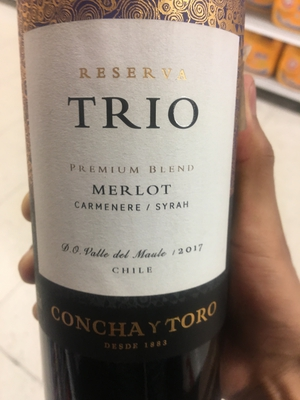trio merlot: (14, 8, 249, 396)
